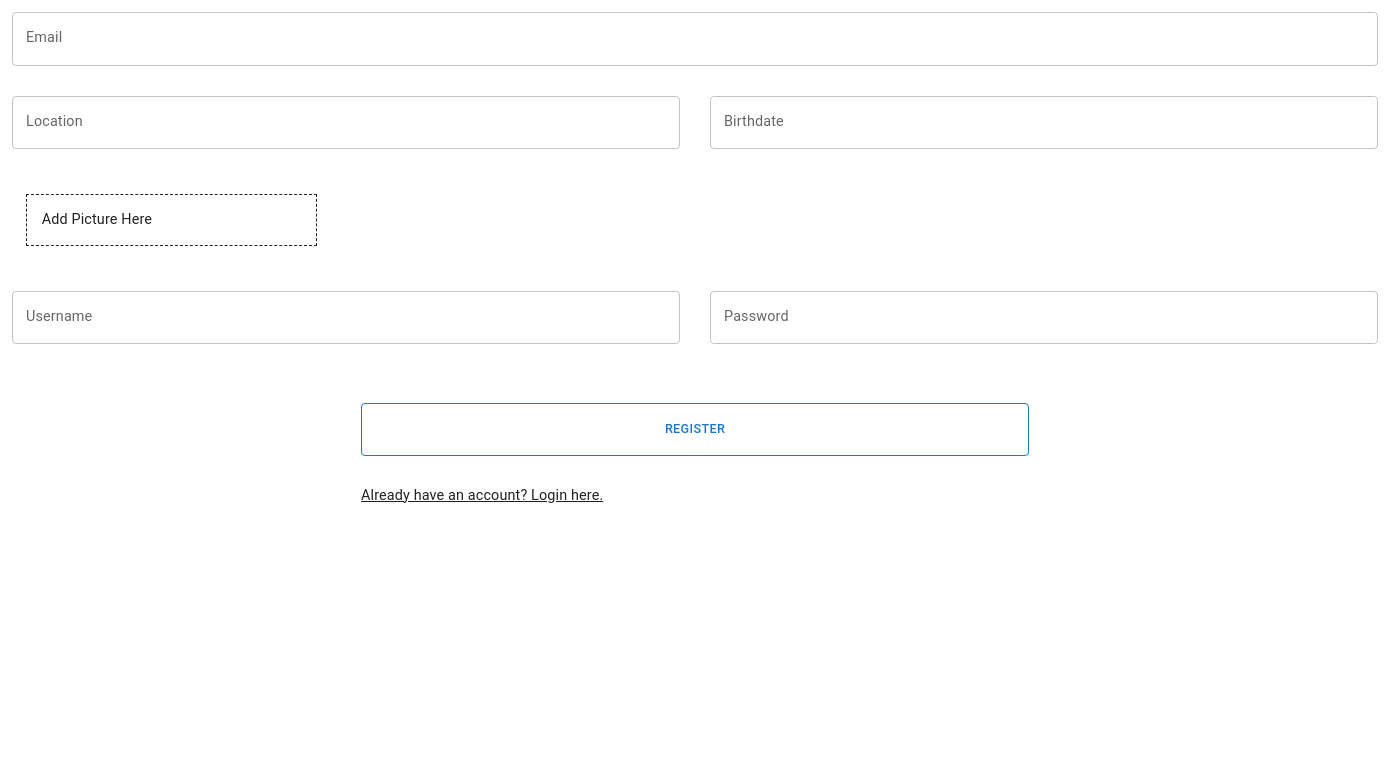
it: Check required input form register
Click the button "REGISTER" at (695, 429), box [361,403,1029,456]
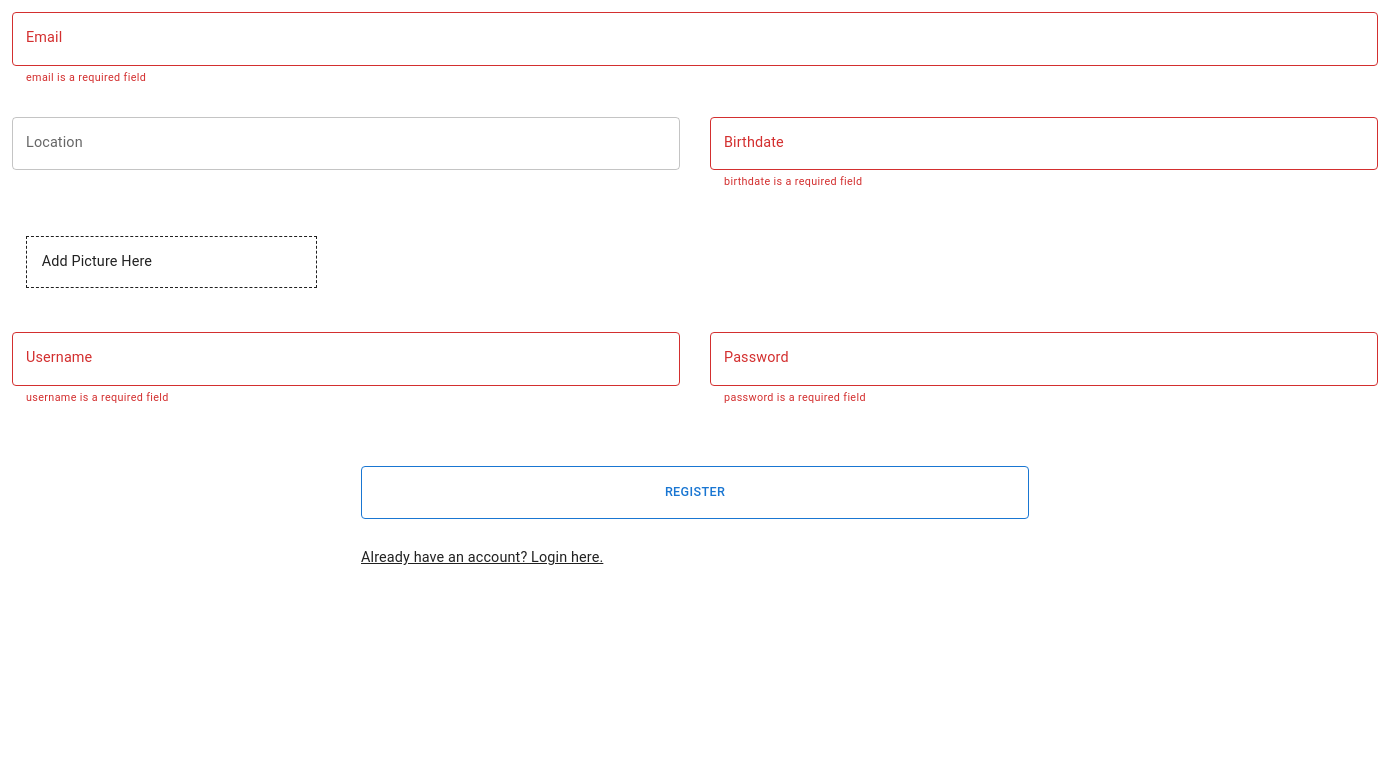
Expected: the text "email is a required field" is shown, [26,71,146,84]
Expected: the text "birthdate is a required field" is shown, [724,175,862,188]
Expected: the text "username is a required field" is shown, [26,391,169,404]
